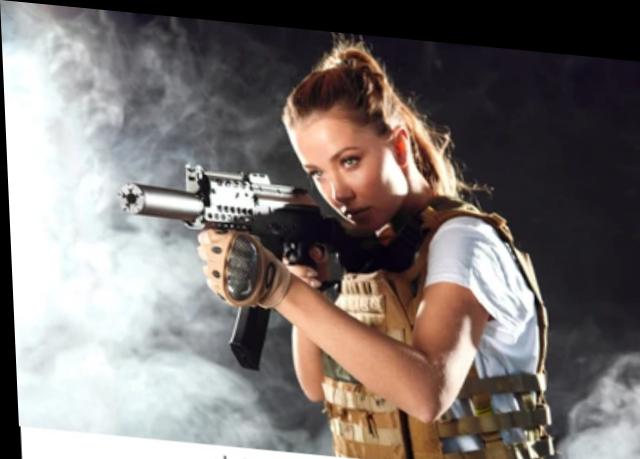other: (271, 38, 534, 452)
